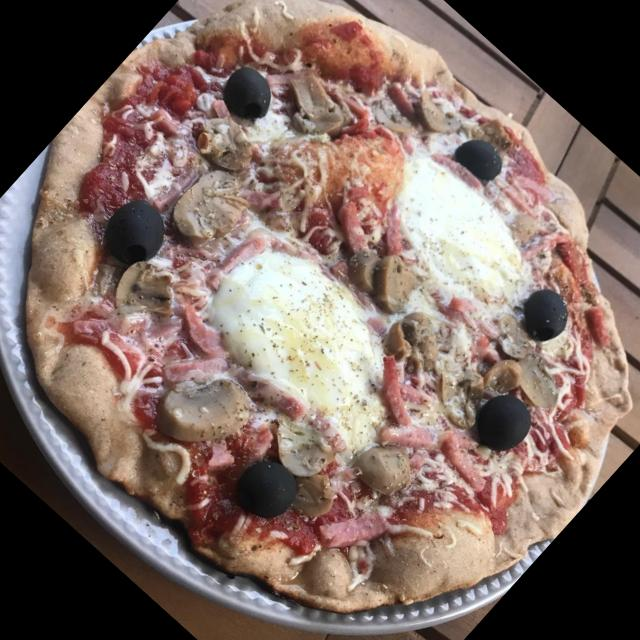black_olives: (88, 189, 178, 281), (222, 446, 310, 534), (457, 380, 542, 468), (207, 49, 291, 133), (511, 280, 582, 352), (440, 125, 510, 195)
mushrooms: (143, 350, 264, 470), (163, 153, 267, 258), (90, 249, 184, 345), (248, 398, 342, 492), (274, 64, 361, 150), (338, 427, 422, 510), (344, 235, 428, 318), (376, 306, 452, 382), (186, 107, 260, 181), (504, 350, 576, 420), (286, 464, 346, 524), (402, 88, 462, 146), (480, 350, 530, 399), (509, 206, 553, 250)
pizza: (23, 0, 633, 617)
